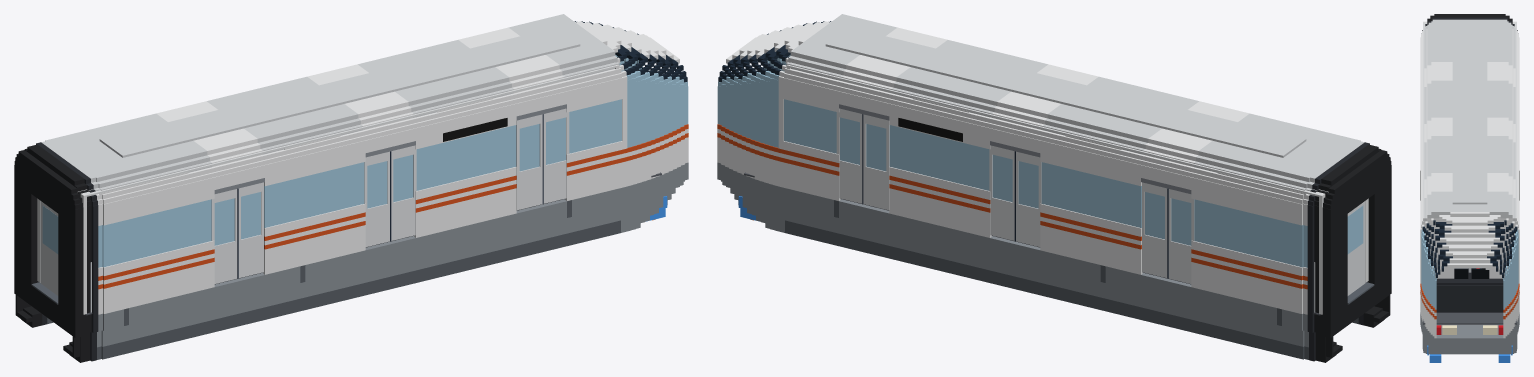
File: beijing_s1_front.obj
The picture shows the model from 3 angles, left to right: view 1: azimuth 30°, elevation 25°; view 2: azimuth 150°, elevation 25°; view 3: azimuth 270°, elevation 25°; orthographic projection. The views are drawn at different scales.
Parts seen in each view (by area): view 1: SHELL, SHELL_roof, SHELL_diaphragm, EXTERNAL_DOOR_15_CG_DR3_TOGGLE_TL_-0.59_X, EXTERNAL_DOOR_9_CG_DR2_TOGGLE_TL_-0.59_X, EXTERNAL_DOOR_3_CG_DR1_TOGGLE_TL_-0.59_X, EXTERNAL_DOOR_4_CG_DR1_TOGGLE_TL_0.59_X, SHELL_ceiling, EXTERNAL_DOOR_10_CG_DR2_TOGGLE_TL_0.59_X, EXTERNAL_DOOR_16_CG_DR3_TOGGLE_TL_0.59_X, CONNECTING_DOOR_1_CG_CR_TOGGLE_TL_0.98_Z, SHELL_end (+1 smaller); view 2: SHELL, SHELL_roof, SHELL_diaphragm, EXTERNAL_DOOR_18_CG_DL3_TOGGLE_TL_-0.59_X, EXTERNAL_DOOR_12_CG_DL2_TOGGLE_TL_-0.59_X, EXTERNAL_DOOR_6_CG_DL1_TOGGLE_TL_-0.59_X, EXTERNAL_DOOR_7_CG_DL1_TOGGLE_TL_0.59_X, SHELL_ceiling, EXTERNAL_DOOR_13_CG_DL2_TOGGLE_TL_0.59_X, EXTERNAL_DOOR_19_CG_DL3_TOGGLE_TL_0.59_X, CONNECTING_DOOR_1_CG_CR_TOGGLE_TL_0.98_Z, SHELL_end (+1 smaller); view 3: SHELL, SHELL_roof, SHELL_desk, SHELL_ceiling, SHELL_cabwall, SHELL_floor, HEADLIGHT_1, BOGEY_FRONT, FLOOR, SHELL_lights.
Boxes of the visible parts, box(x1,y1,x2,y2) form: SHELL: box(21, 14, 688, 362); SHELL_roof: box(99, 27, 580, 157); SHELL_diaphragm: box(14, 150, 81, 357); EXTERNAL_DOOR_15_CG_DR3_TOGGLE_TL_-0.59_X: box(516, 114, 543, 210); EXTERNAL_DOOR_9_CG_DR2_TOGGLE_TL_-0.59_X: box(364, 151, 391, 246); EXTERNAL_DOOR_3_CG_DR1_TOGGLE_TL_-0.59_X: box(211, 188, 238, 283); EXTERNAL_DOOR_4_CG_DR1_TOGGLE_TL_0.59_X: box(238, 182, 263, 277); SHELL_ceiling: box(24, 63, 615, 196); EXTERNAL_DOOR_10_CG_DR2_TOGGLE_TL_0.59_X: box(391, 145, 416, 240); EXTERNAL_DOOR_16_CG_DR3_TOGGLE_TL_0.59_X: box(543, 108, 569, 203); CONNECTING_DOOR_1_CG_CR_TOGGLE_TL_0.98_Z: box(40, 201, 58, 295); SHELL_end: box(21, 149, 86, 314); SHELL: box(717, 14, 1384, 362); SHELL_roof: box(825, 27, 1306, 157); SHELL_diaphragm: box(1324, 150, 1391, 357); EXTERNAL_DOOR_18_CG_DL3_TOGGLE_TL_-0.59_X: box(862, 114, 889, 210); EXTERNAL_DOOR_12_CG_DL2_TOGGLE_TL_-0.59_X: box(1014, 151, 1041, 246); EXTERNAL_DOOR_6_CG_DL1_TOGGLE_TL_-0.59_X: box(1167, 188, 1194, 283); EXTERNAL_DOOR_7_CG_DL1_TOGGLE_TL_0.59_X: box(1142, 182, 1167, 277); SHELL_ceiling: box(790, 63, 1381, 196); EXTERNAL_DOOR_13_CG_DL2_TOGGLE_TL_0.59_X: box(989, 145, 1014, 240); EXTERNAL_DOOR_19_CG_DL3_TOGGLE_TL_0.59_X: box(836, 108, 862, 203); CONNECTING_DOOR_1_CG_CR_TOGGLE_TL_0.98_Z: box(1347, 201, 1365, 295); SHELL_end: box(1319, 149, 1384, 314); SHELL: box(1420, 14, 1519, 354); SHELL_roof: box(1452, 34, 1487, 204); SHELL_desk: box(1436, 269, 1503, 312); SHELL_ceiling: box(1423, 22, 1516, 217); SHELL_cabwall: box(1423, 217, 1516, 278); SHELL_floor: box(1423, 268, 1516, 323); HEADLIGHT_1: box(1442, 325, 1497, 334); BOGEY_FRONT: box(1427, 345, 1512, 362); FLOOR: box(1423, 323, 1516, 324); SHELL_lights: box(1436, 325, 1503, 334).
Size of the model in its own units: 15.46 by 4.27 by 2.86.
Materials: 1 (1 with a texture image).
